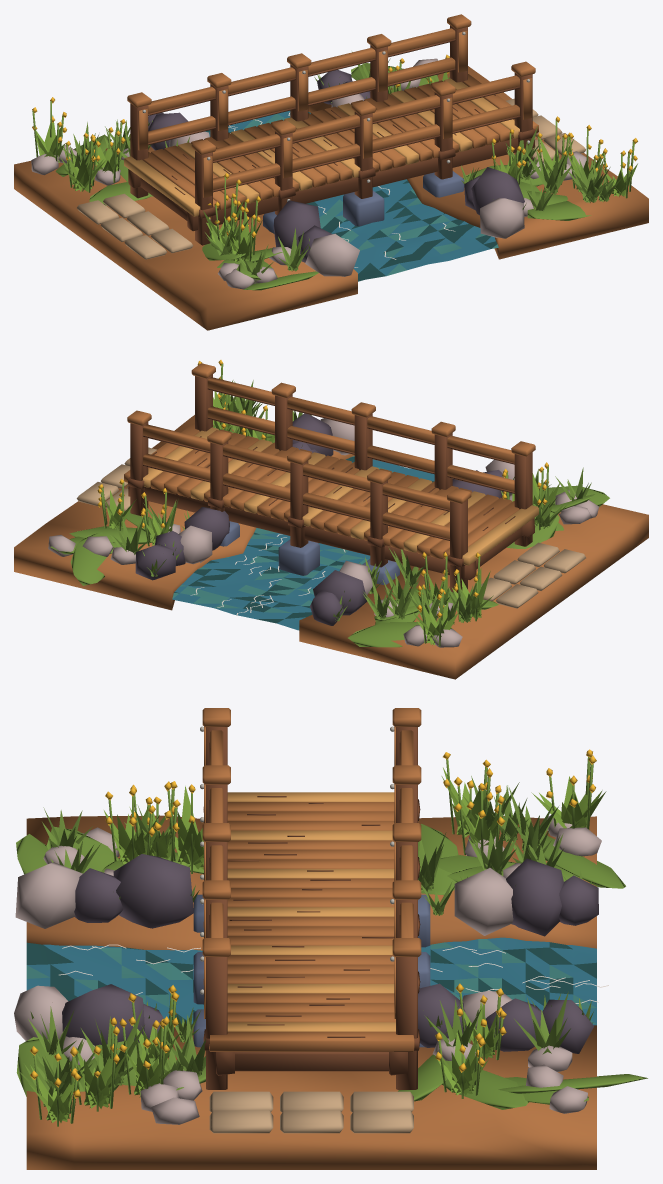
File: kit.creek-bridge-wood.lod2.glb
3 renders of one model, top to bottom at view 1: azimuth 30°, elevation 25°; view 2: azimuth 150°, elevation 25°; view 3: azimuth 270°, elevation 25°, orthographic. The views are drawn at different scales.
Bounding box in the file's own units: 7.93 × 2.13 × 6.68.
